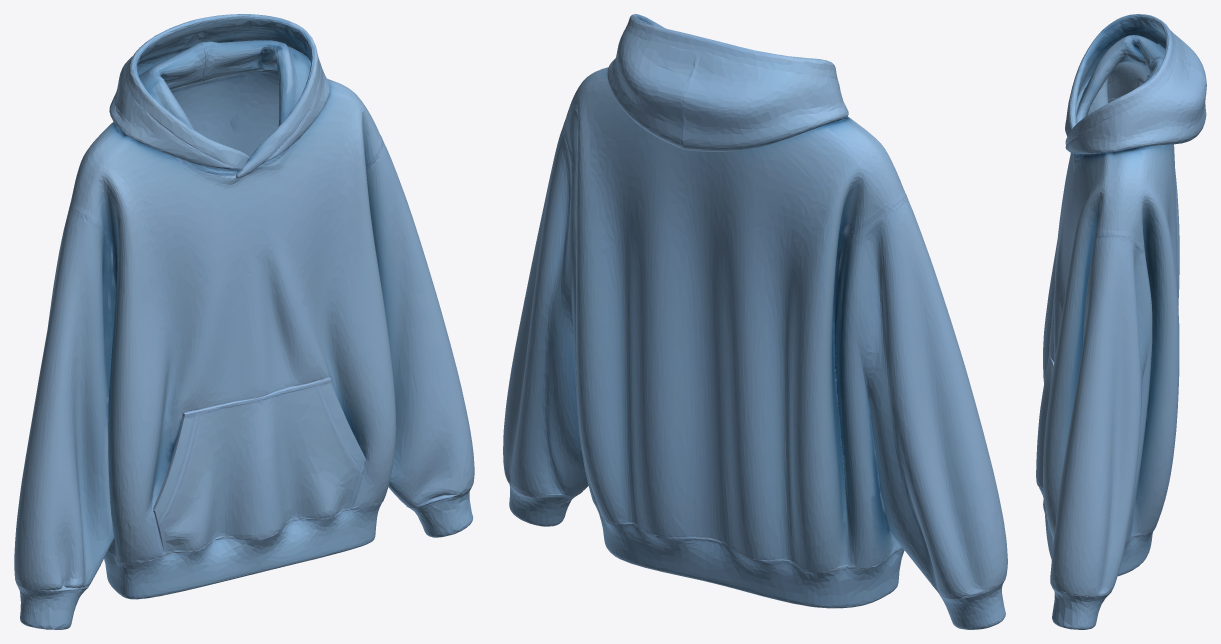
Rendered from hoodie 002.obj.
3 renders of one model, left to right at view 1: azimuth 30°, elevation 25°; view 2: azimuth 150°, elevation 25°; view 3: azimuth 270°, elevation 25°, orthographic. The views are drawn at different scales.
Parts seen in each view (by area): view 1: node_0; view 2: node_0; view 3: node_0.
Part boxes in pixels (x1,y1,x2,y2): node_0: [14, 14, 474, 629]; node_0: [503, 14, 1007, 629]; node_0: [1036, 14, 1206, 629].
Size of the model in its own units: 0.8198 by 0.9086 by 0.2836.
Materials: 1 (1 with a texture image).
